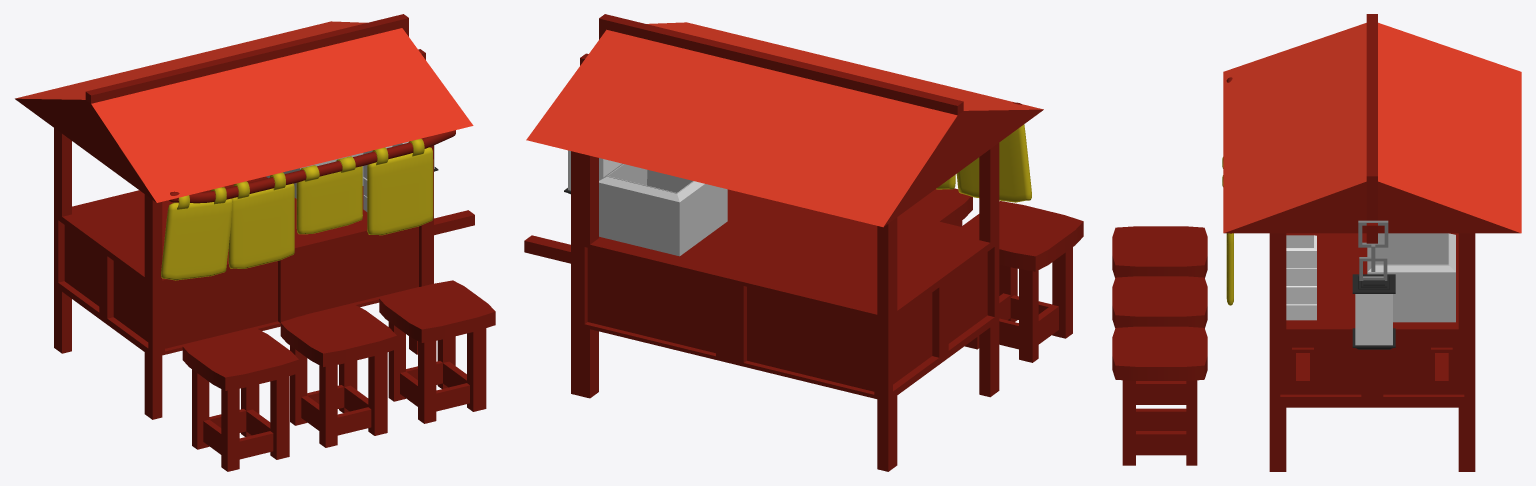
The model's file is shop model.fbx.
3 renders of one model, left to right at view 1: azimuth 30°, elevation 25°; view 2: azimuth 150°, elevation 25°; view 3: azimuth 270°, elevation 25°, orthographic. The views are drawn at different scales.
Parts seen in each view (by area): view 1: Cube, Cube.013, Cube.001, Cube.002, Plane.001, Plane.004, Plane.003, Plane.002, Cube.008; view 2: Cube, Cube.013, Cube.007, Plane.004, Cube.002; view 3: Cube, Cube.001, Cube.007, Cube.002, Cube.013, Cube.012, Cube.005, Cube.004, Plane.001, Cube.006, Cube.003, Cube.009.
Part boxes in pixels (box(x1,y1,x2,y2)): Cube: box(15, 14, 474, 419); Cube.013: box(182, 328, 298, 471); Cube.001: box(379, 280, 495, 423); Cube.002: box(280, 304, 396, 447); Plane.001: box(367, 147, 433, 235); Plane.004: box(161, 198, 232, 280); Plane.003: box(228, 183, 294, 268); Plane.002: box(296, 166, 362, 234); Cube.008: box(169, 130, 455, 203); Cube: box(524, 14, 1043, 471); Cube.013: box(961, 201, 1083, 362); Cube.007: box(599, 163, 727, 256); Plane.004: box(956, 124, 1031, 202); Cube.002: box(903, 188, 972, 226); Cube: box(1223, 14, 1521, 471); Cube.001: box(1112, 326, 1207, 465); Cube.007: box(1367, 233, 1455, 322); Cube.002: box(1112, 276, 1207, 404); Cube.013: box(1112, 226, 1207, 277); Cube.012: box(1352, 274, 1395, 349); Cube.005: box(1286, 235, 1316, 267); Cube.004: box(1286, 286, 1316, 304); Plane.001: box(1226, 233, 1233, 305); Cube.006: box(1286, 268, 1316, 285); Cube.003: box(1286, 304, 1316, 320); Cube.009: box(1358, 220, 1388, 247).
Bounding box in the file's own units: 286 × 229 × 274.
